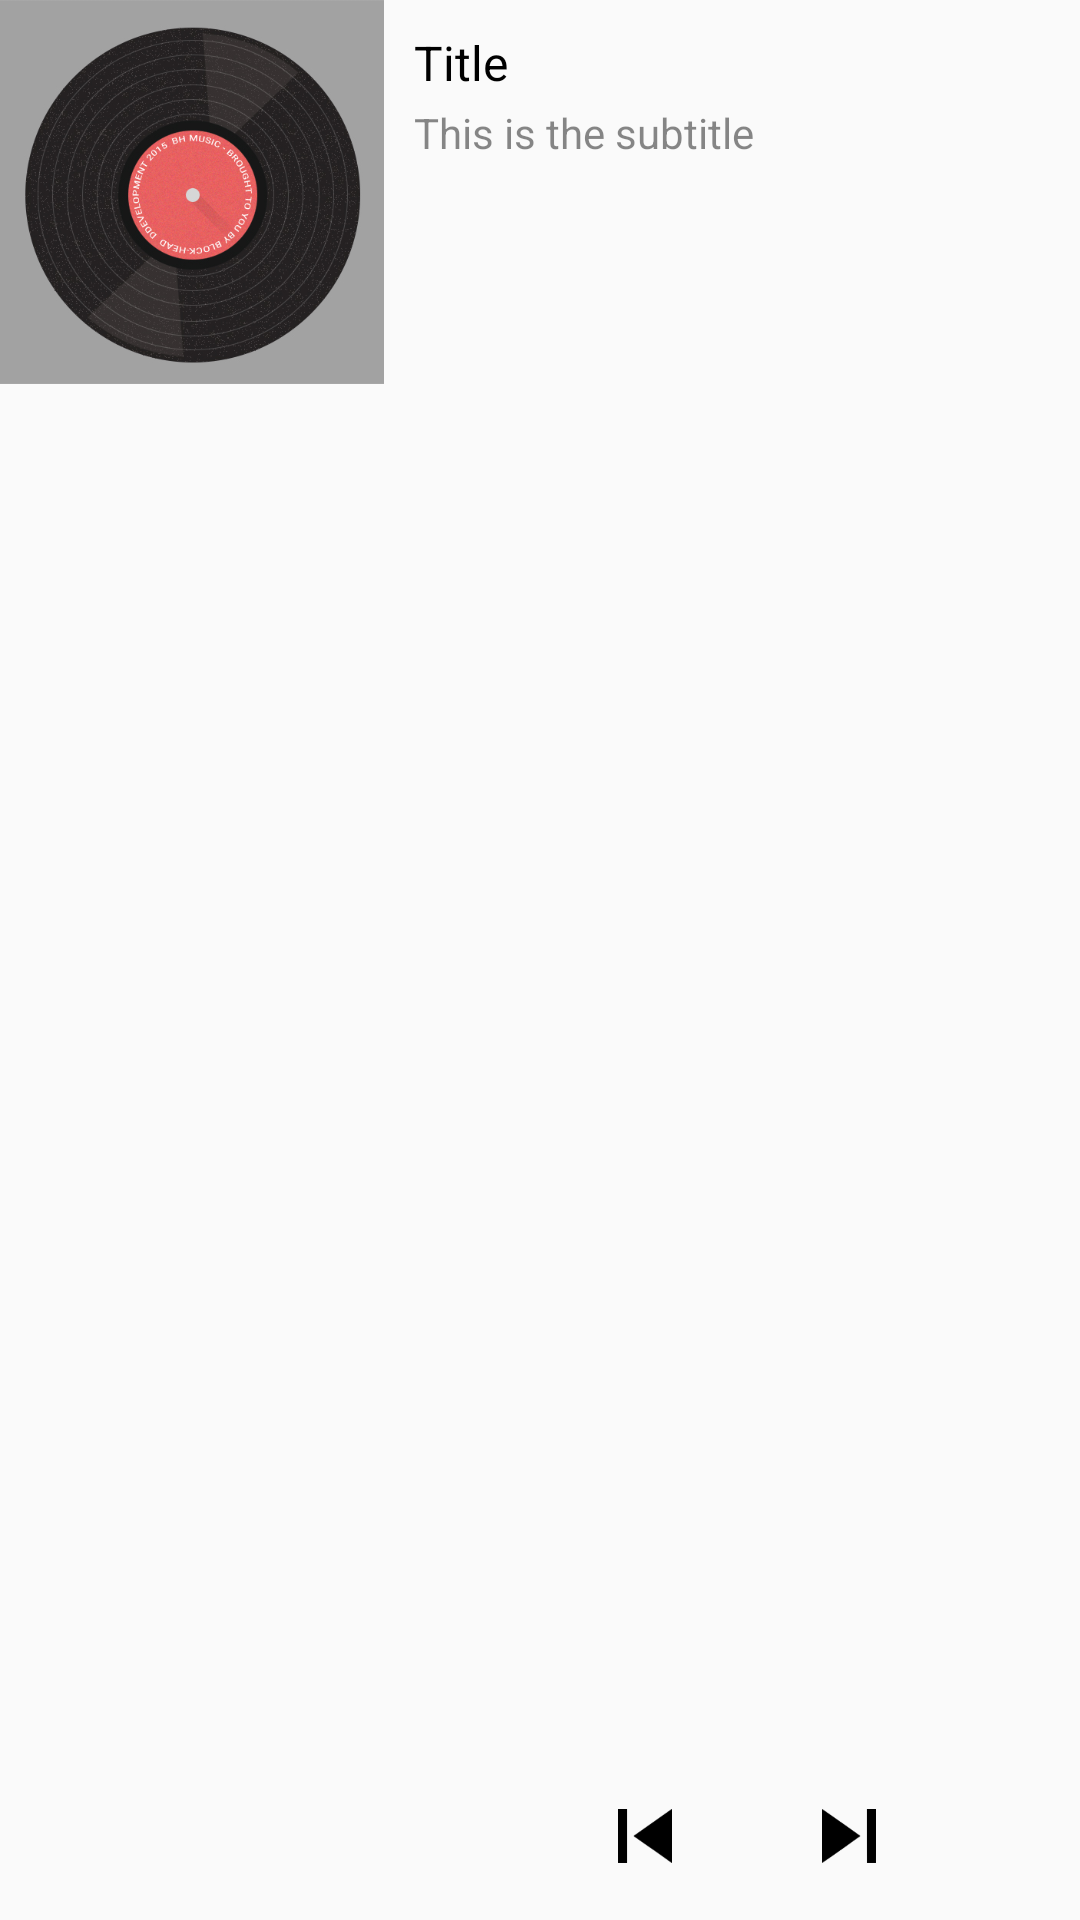

Icons on this 1080x1920 Android screen, each with the point to tap as (x=x, y=y):
skip next: (x=849, y=1836)
skip previous: (x=645, y=1836)
